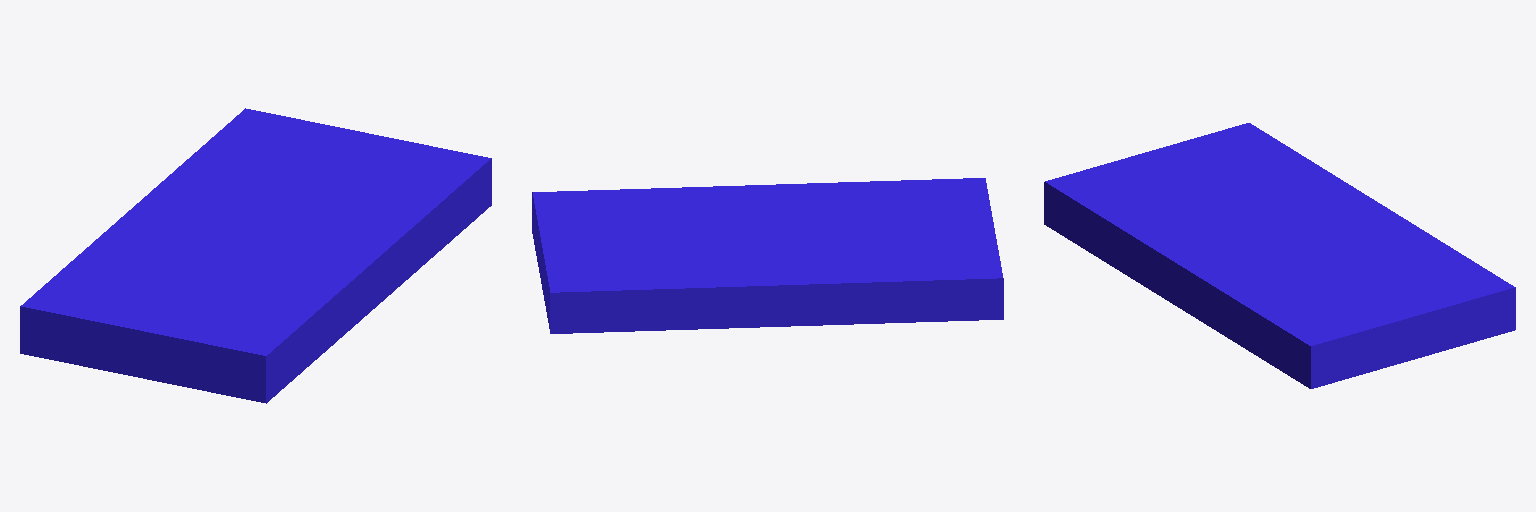
URDF robot description (Interference):
<?xml version="1.0"?>
<robot name="Interference">
  <link name="baseLink">
    <inertial>
      <origin xyz="0.0 0.0 0.0" rpy="0.0 0.0 0.0"/>
      <inertia ixx="0.0" ixy="0.0" ixz="0.0" iyy="0.0" iyz="0.0" izz="0.0"/>
      <mass value="0"/>
    </inertial>
    <visual>
      <origin xyz="0.0 0.0 0.0" rpy="0.0 0.0 0.5991936857524136"/>
      <geometry>
        <box size="0.09940347356849413 0.05217980834217991 0.01"/>
      </geometry>
      <material name="color">
        <color rgba="0.2624285948908006 0.19346998951840422 0.9443443391072823 1.0"/>
      </material>
    </visual>
  </link>
</robot>

--- Facts derived from the render (not from the file) ---
The picture shows the robot from 3 angles, left to right: view 1: azimuth 30°, elevation 25°; view 2: azimuth 150°, elevation 25°; view 3: azimuth 270°, elevation 25°; orthographic projection.
Model Interference with 1 links and 0 joints (none), rooted at baseLink, posed every joint at zero.
Visible links, largest first — view 1: baseLink; view 2: baseLink; view 3: baseLink.
Boxes of the visible links, x1,y1,x2,y2 form: baseLink: [20, 108, 491, 403]; baseLink: [532, 178, 1003, 333]; baseLink: [1044, 123, 1515, 388].
Bounding box of the posed robot: 0.1115 × 0.0992 × 0.01 m (x, y, z).
Geometry: primitives only (box / cylinder / sphere), no mesh files.